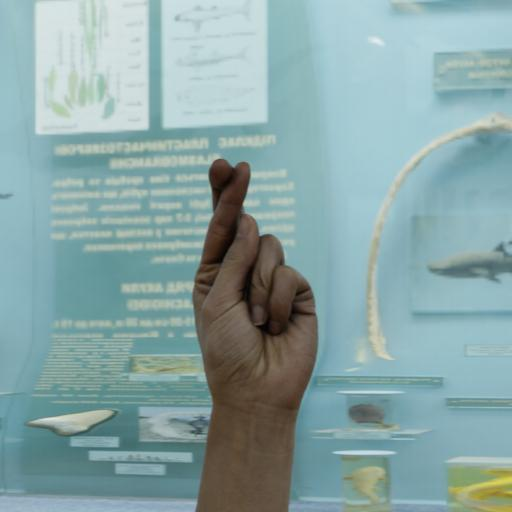R: (168, 128, 372, 512)
